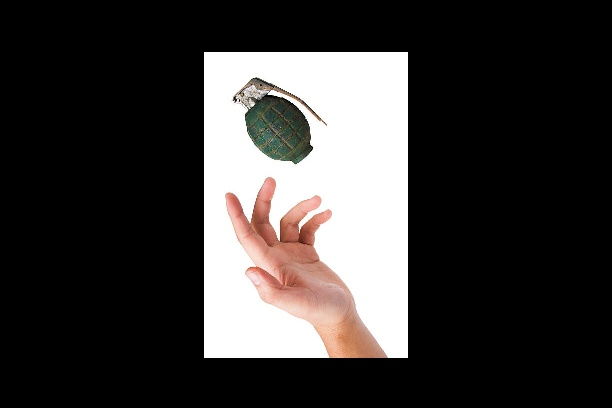e1: (232, 75, 328, 163)
